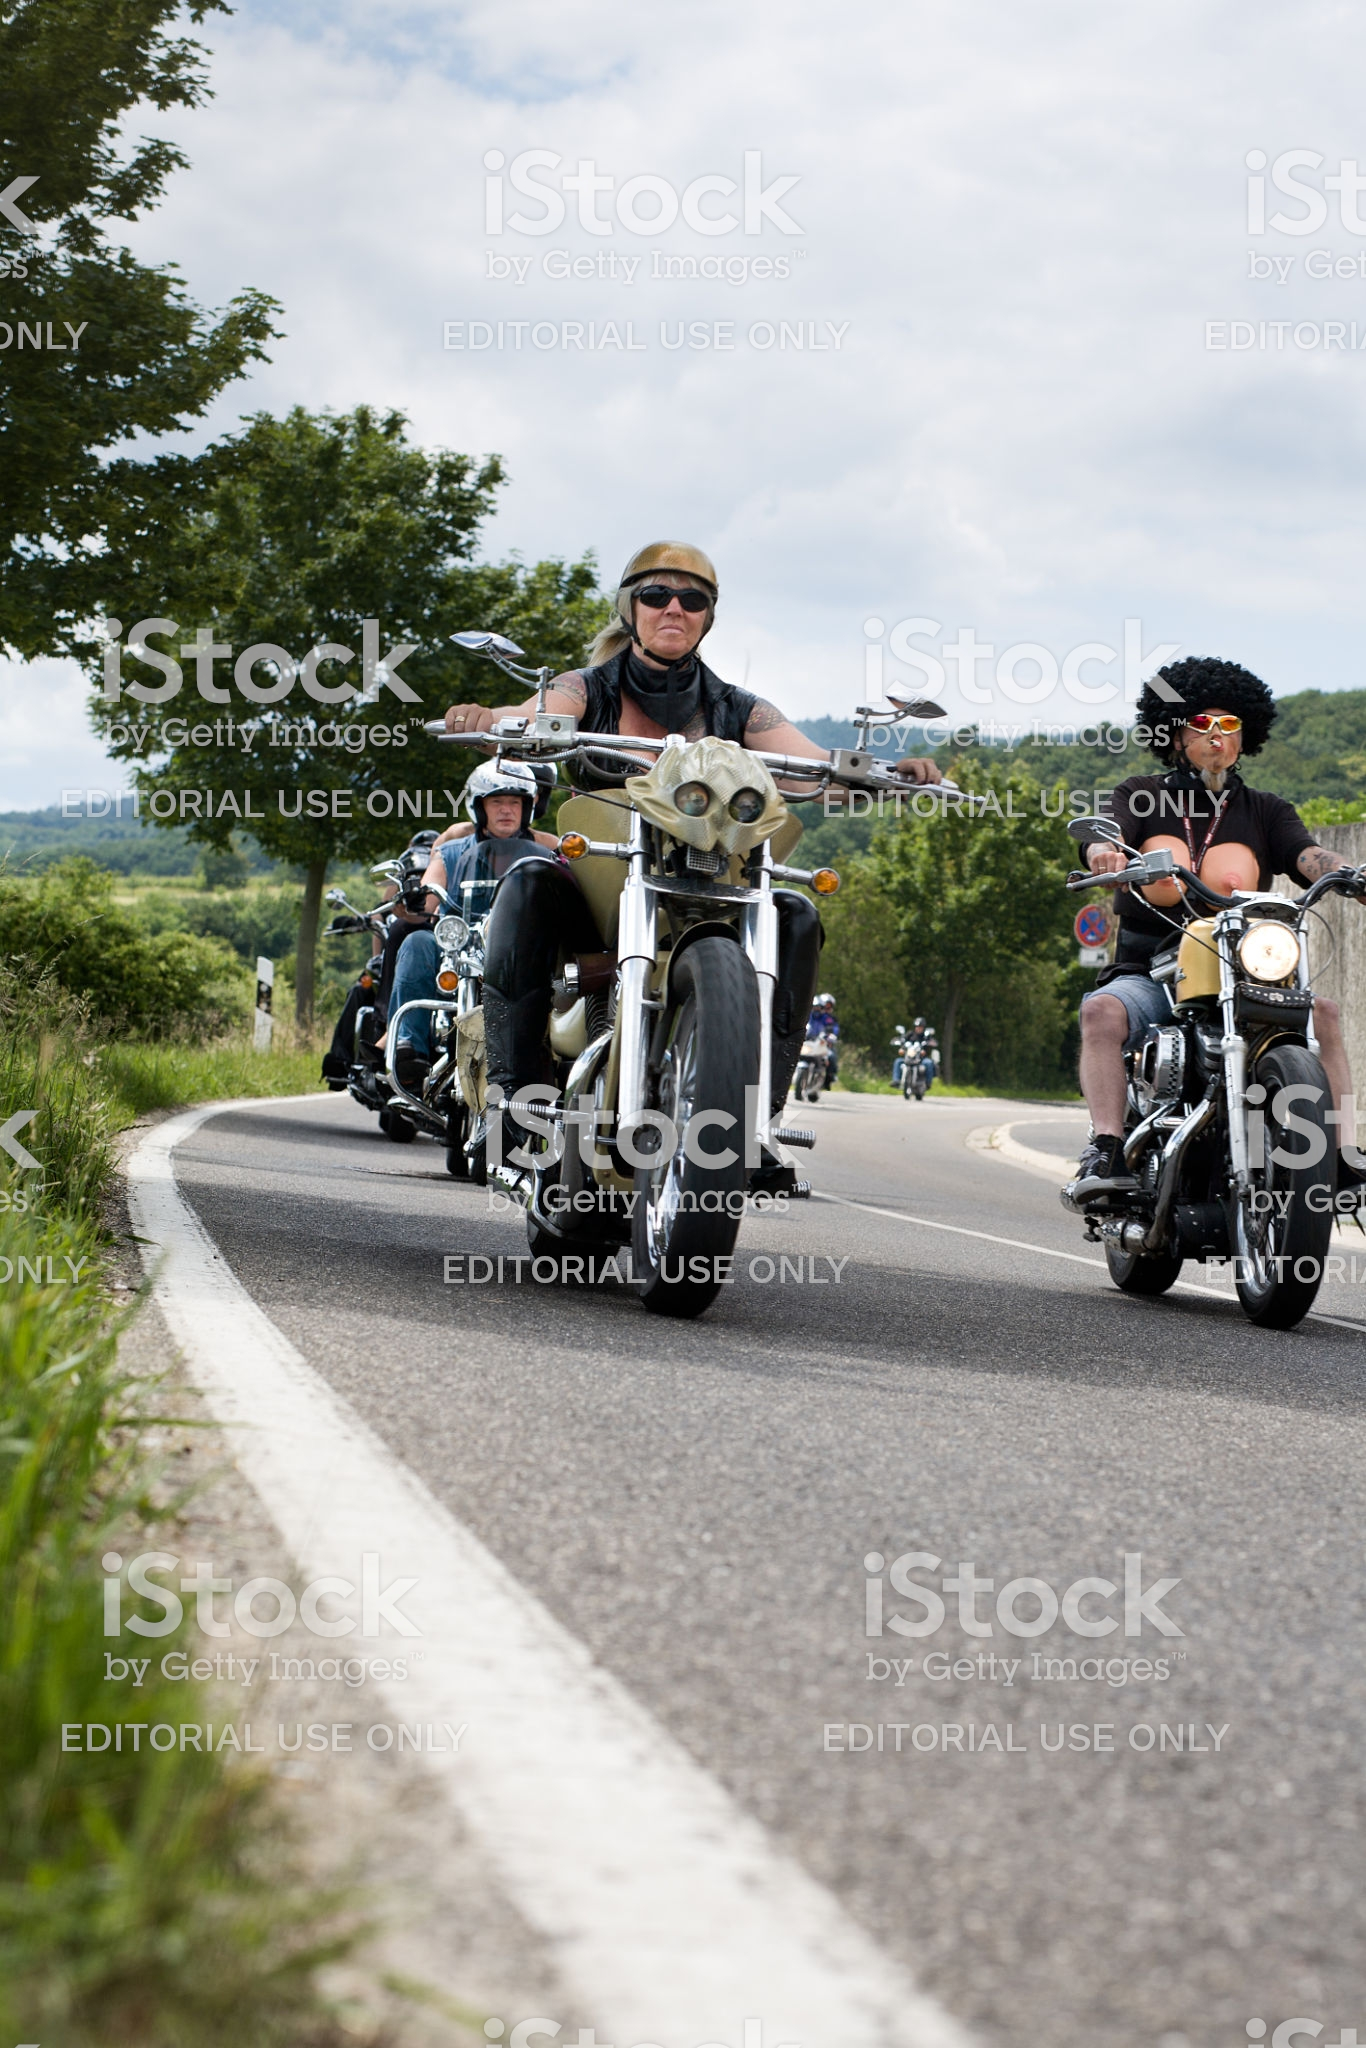helmet: (617, 535, 717, 588)
